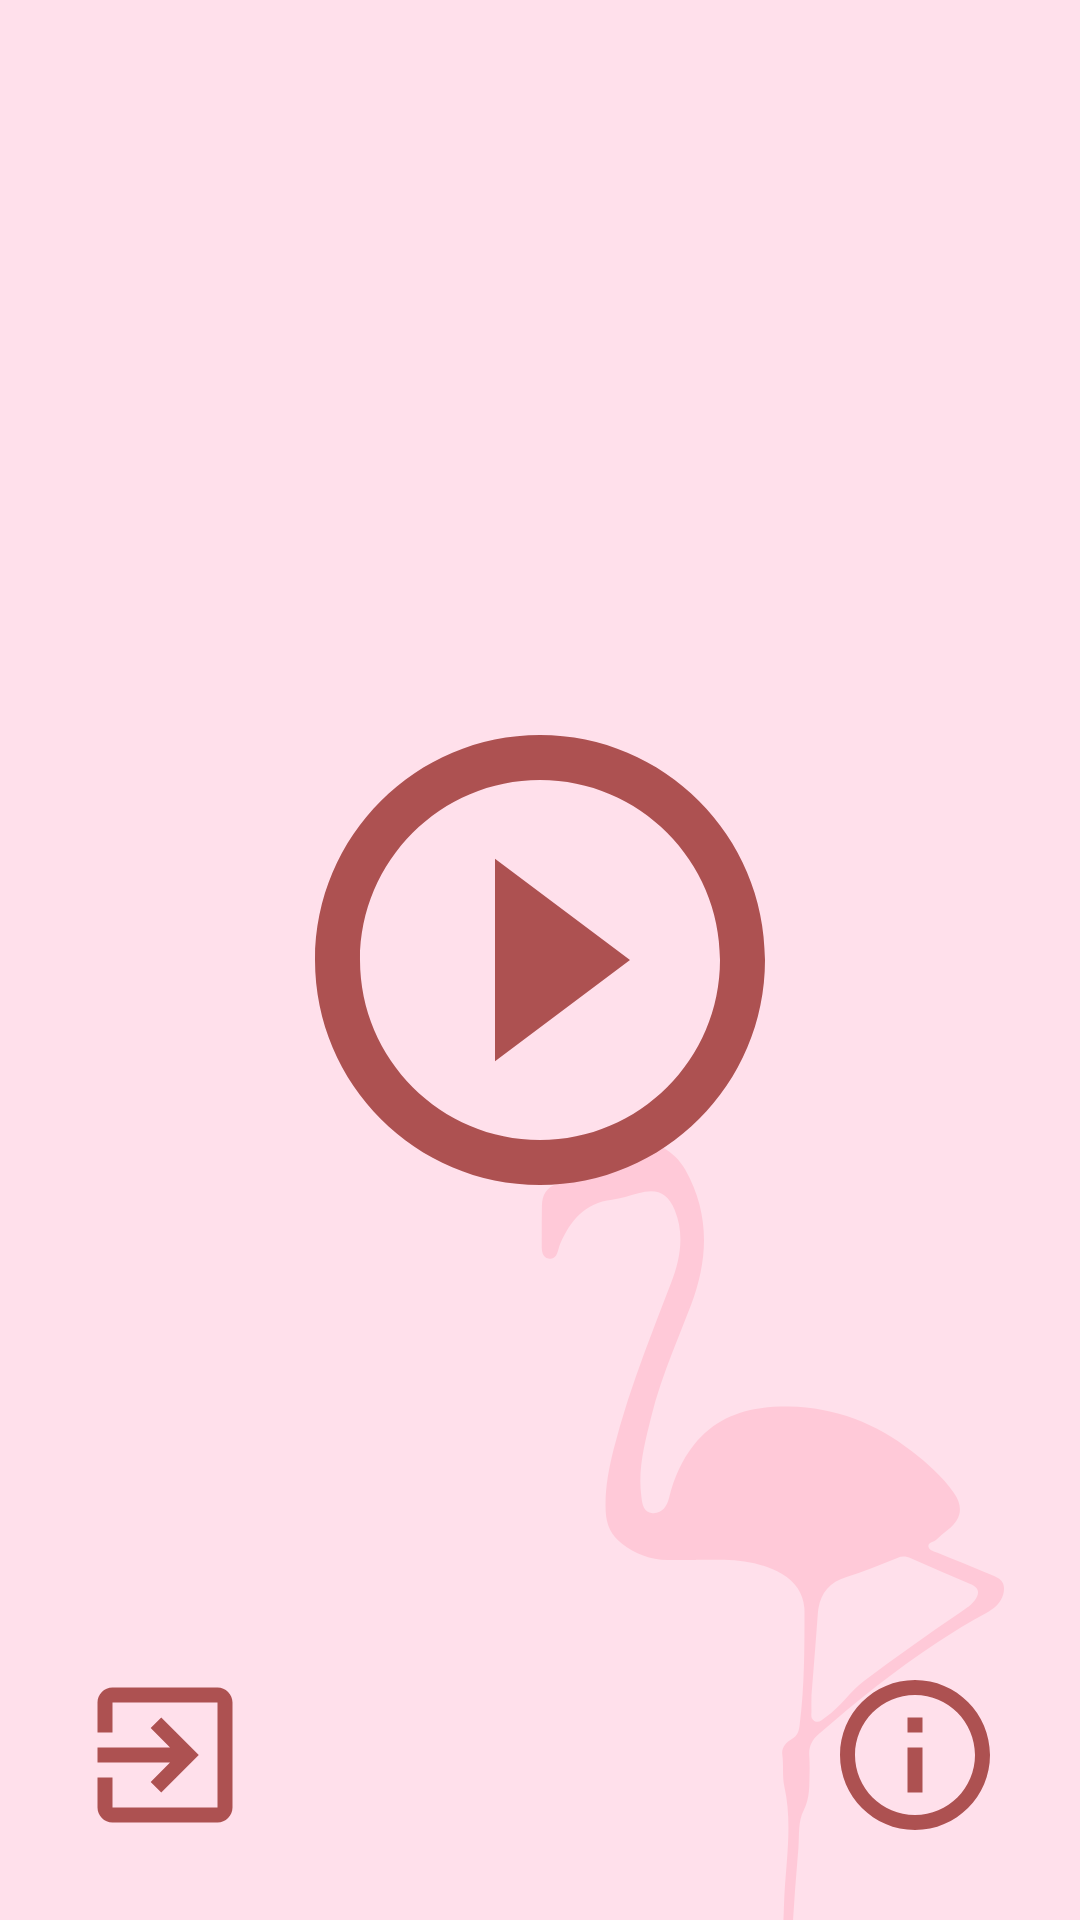

Point at icon controls on the screen. Image size 1080px×1920px, points as (x=x, y=y).
exit to app: (x=165, y=1755)
info: (x=915, y=1755)
